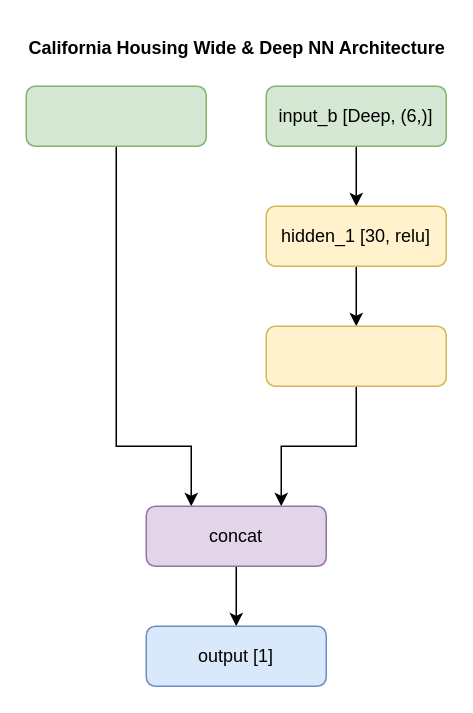
The diagram is 473 pixels wide and 713 high, and some of its shapes have lost their labels. Here are the shapes that lost their labels. From the top down, the box of each, then its label:
(25, 85, 206, 146): input_a [Wide, (5,)]
(265, 325, 446, 386): hidden_2 [30, relu]
